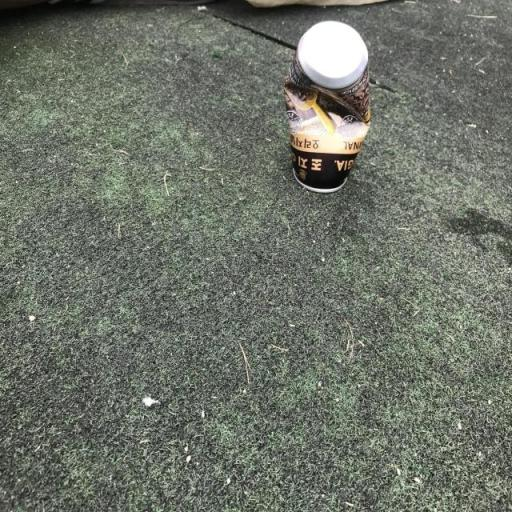metal: (261, 4, 372, 212)
